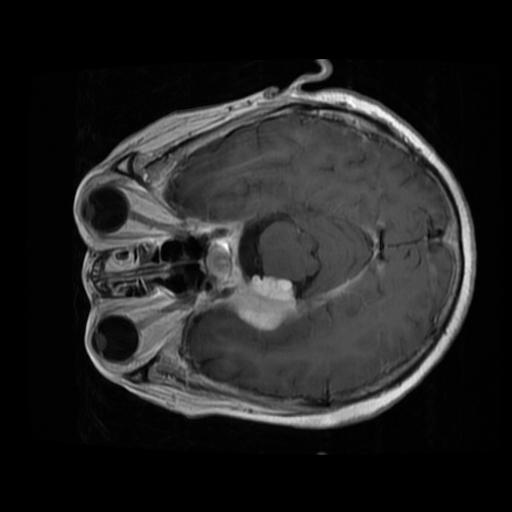meningioma: (228, 274, 350, 329)
